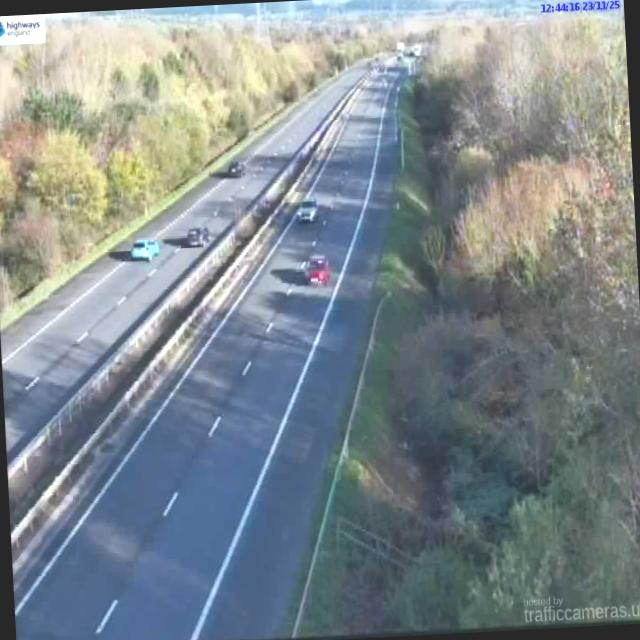foliage: (404, 14, 640, 623), (0, 23, 387, 309)
